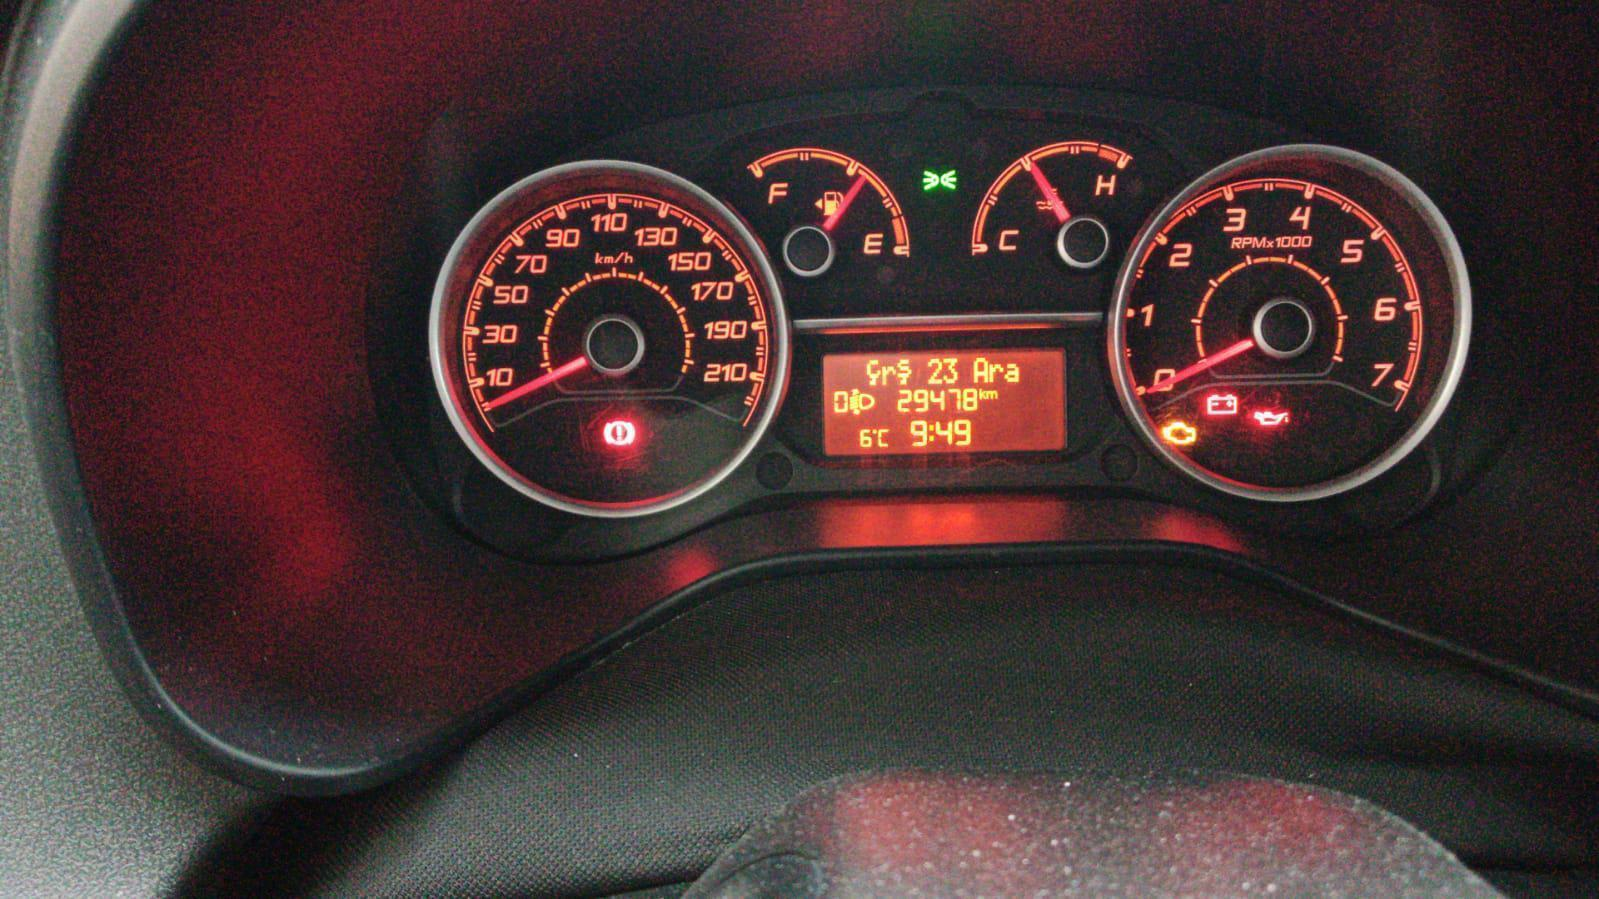0: (832, 389, 849, 414)
2: (926, 357, 943, 384), (897, 389, 912, 413)
3: (943, 356, 959, 383)
4: (936, 419, 952, 443), (929, 389, 944, 411)
6: (859, 428, 871, 448)
7: (947, 386, 960, 411)
8: (963, 387, 977, 411)
9: (909, 418, 927, 447), (954, 418, 972, 446), (913, 387, 928, 411)
X: (896, 356, 913, 385), (865, 356, 880, 386), (973, 356, 988, 383), (880, 364, 895, 386), (1004, 363, 1020, 383), (988, 362, 1003, 382), (877, 428, 890, 447), (986, 389, 998, 401), (928, 422, 935, 443), (979, 386, 986, 401)
odometer: (819, 347, 1070, 453)
